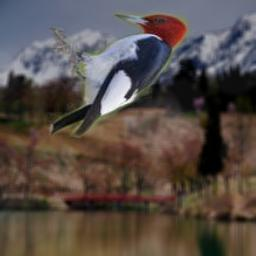Woodpecker: (43, 8, 192, 138)
